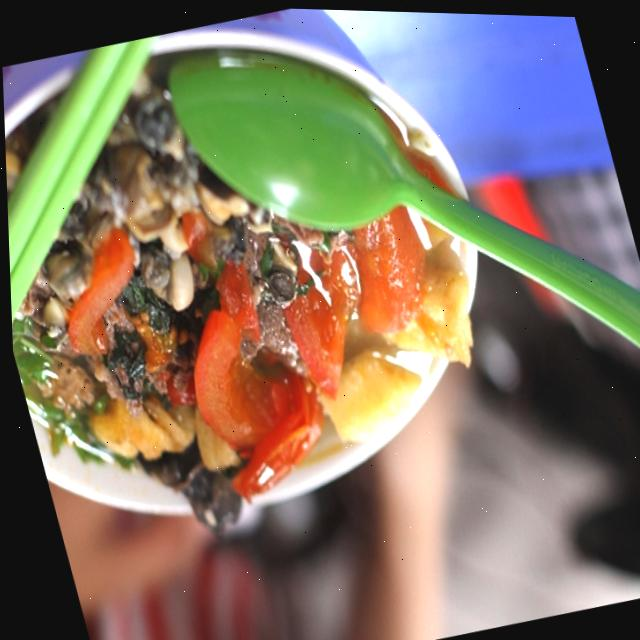面条主食: (0, 0, 548, 593)
